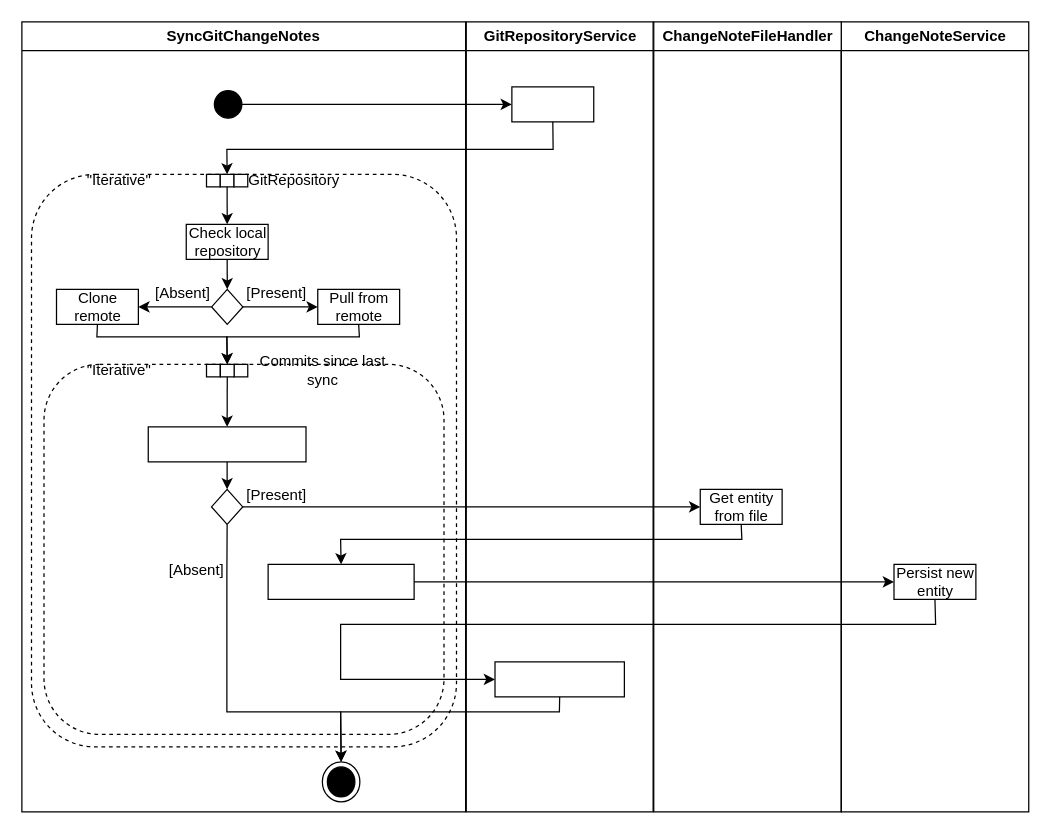
Image size: 1051x834. Some labels were removed from this diagram. Here are the shapes that lost their labels. From the top down, the centre of each, then its label:
the point at 552,104: Get all repositories
the point at 226,444: Check if commit contains new change note file
the point at 340,581: Append commit hash and timestamp to entity
the point at 559,679: Update last checked commit hash
